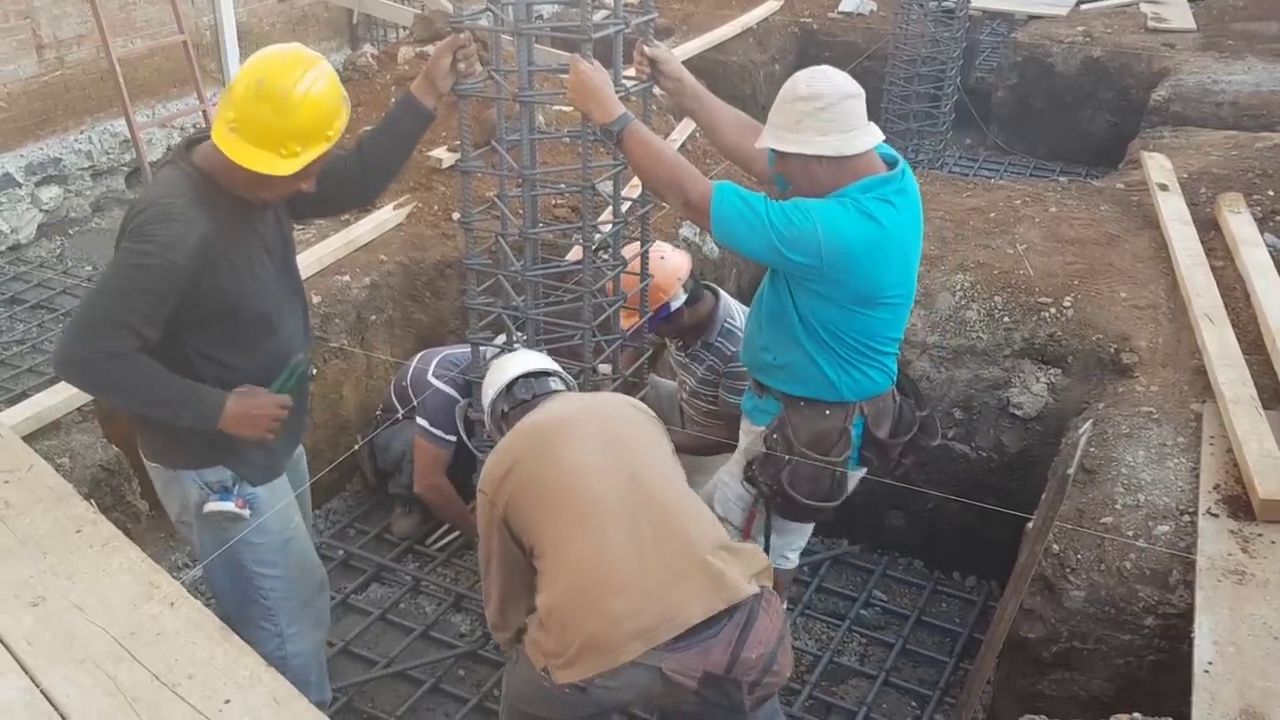helmet: (201, 42, 346, 180), (477, 347, 584, 432), (615, 248, 697, 328)
helmet-off: (744, 67, 892, 200)
helmet-on: (177, 39, 355, 207), (618, 229, 716, 344), (474, 350, 589, 446)
person: (40, 22, 473, 718), (570, 38, 924, 593), (472, 333, 791, 719), (606, 245, 756, 455), (368, 332, 493, 544)
